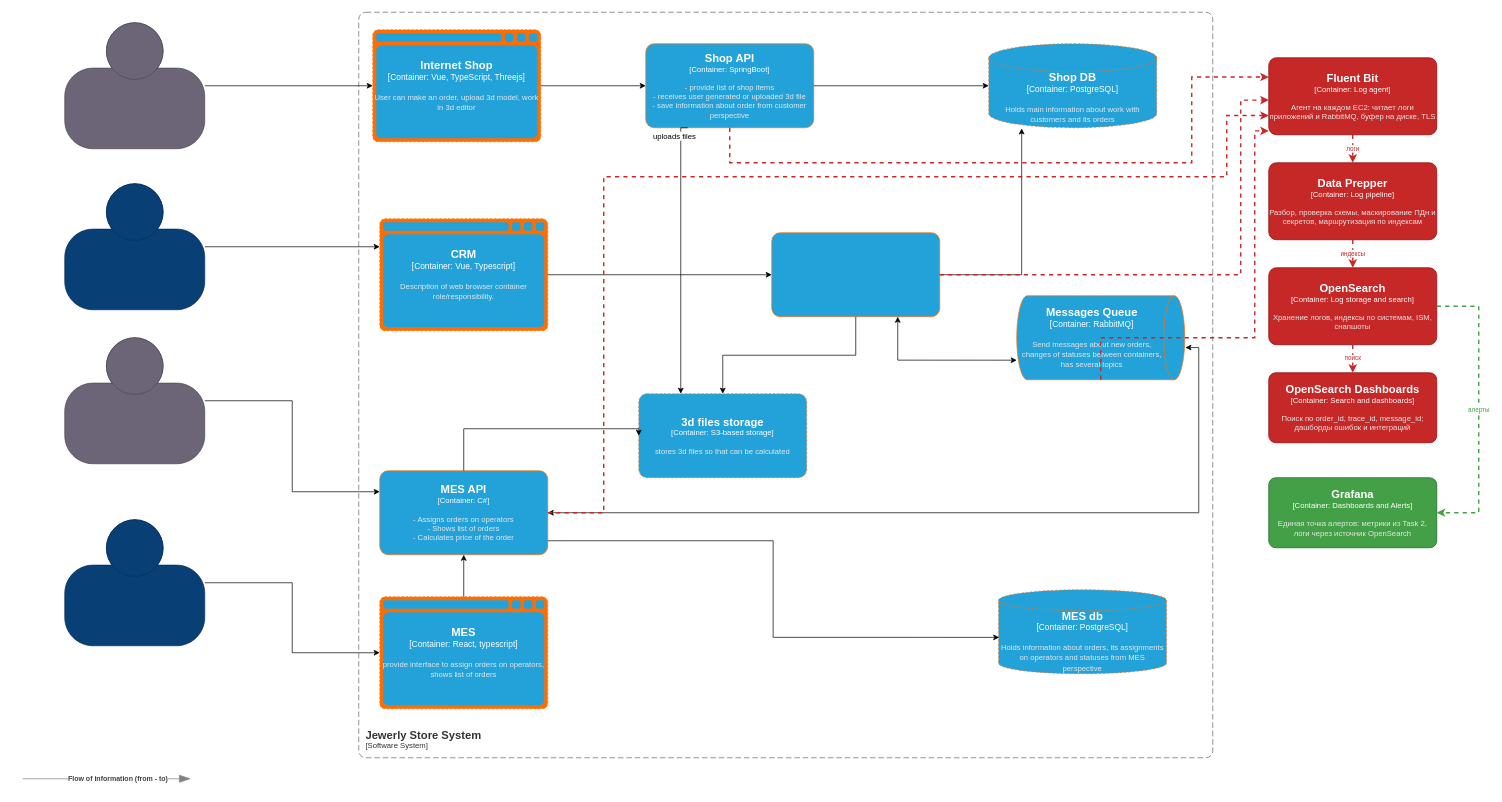
Some shapes in this 1502 by 802 pixel diagram are drawn without their labels. Here are the shapes that lost their labels. From the top down, the centre of each, then its label:
At point (134, 85): "Customer [Person] Description of external person.".
At point (134, 246): "Seller [Person] Operates with order, confirms manufacturing for the user".
At point (855, 274): "CRM API [Container: SpringBoot] Description of container role/responsibility.".
At point (134, 400): "API user [Person] Description of external person.".
At point (134, 582): "Operator [Person] Takes order in work, manufactures jewerly".
